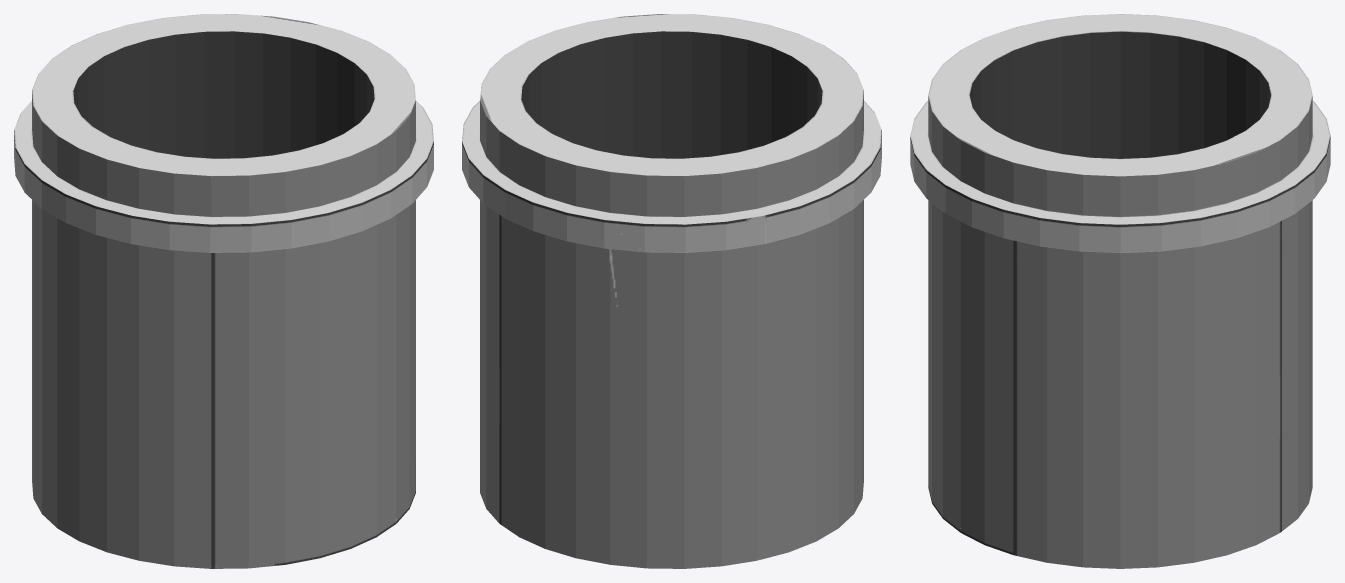
The model's file is Pale.glb.
3 renders of one model, left to right at view 1: azimuth 30°, elevation 25°; view 2: azimuth 150°, elevation 25°; view 3: azimuth 270°, elevation 25°, orthographic.
Parts seen in each view (by area): view 1: Cylinder; view 2: Cylinder; view 3: Cylinder.
Boxes of the visible parts, x1,y1,x2,y2 form: Cylinder: (14, 14, 433, 568); Cylinder: (462, 14, 881, 568); Cylinder: (910, 14, 1330, 568).
Size of the model in its own units: 0.4819 by 0.4966 by 0.4819.
1 material, 1 textured.
